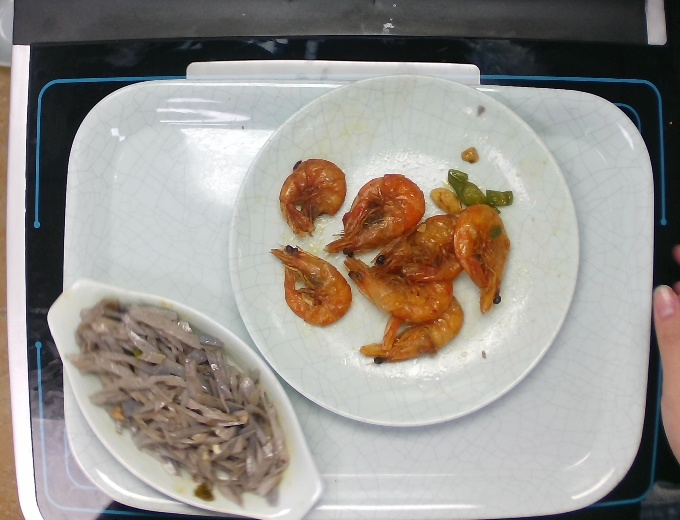JYsf-Da_Yuan_Pan: (225, 71, 584, 430)
JYsf-Yu_Pan: (39, 265, 330, 520)
